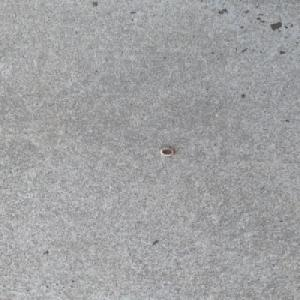Nut: (159, 147, 175, 156)
